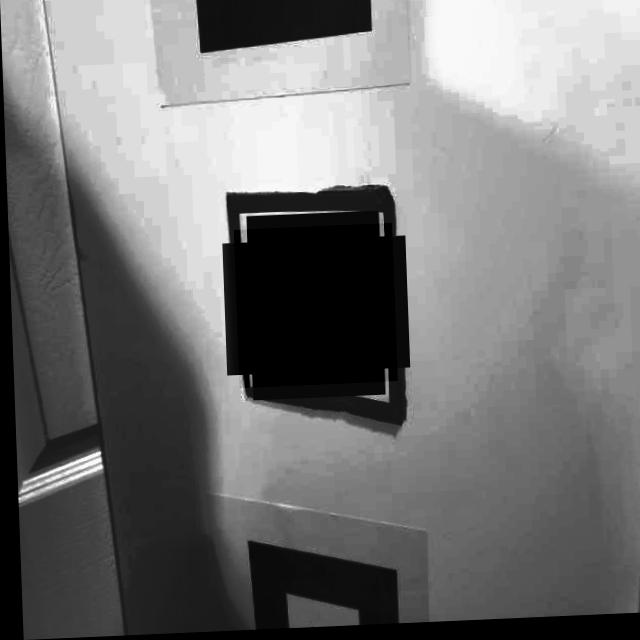qr_code: (232, 227, 395, 390)
